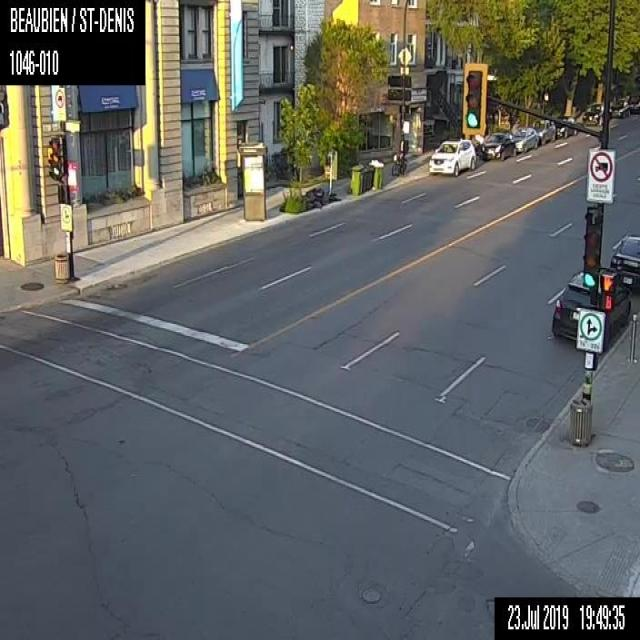vehicle: (551, 266, 632, 351), (609, 233, 639, 294), (428, 138, 475, 176), (480, 132, 515, 160), (510, 126, 538, 152), (527, 119, 555, 144), (552, 115, 577, 138), (581, 102, 603, 126), (608, 98, 630, 118), (392, 151, 408, 175), (629, 95, 639, 113)
